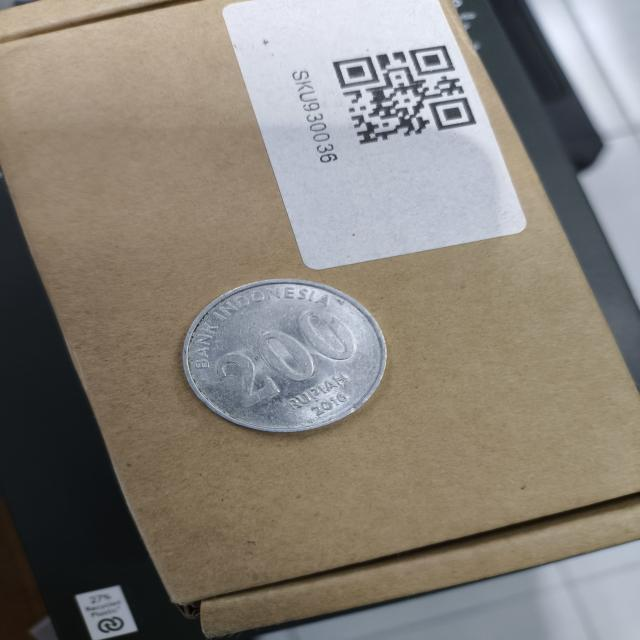1000-sawit: (183, 280, 386, 432)
